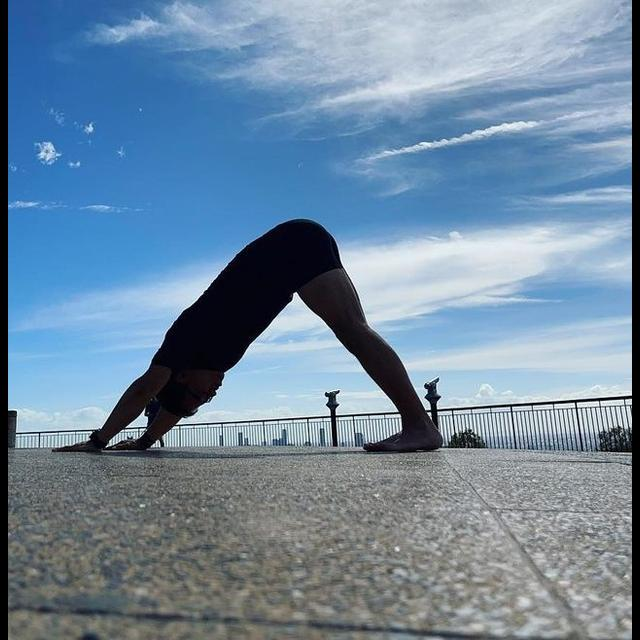Downward-Facing_Dog: (42, 215, 451, 457)
